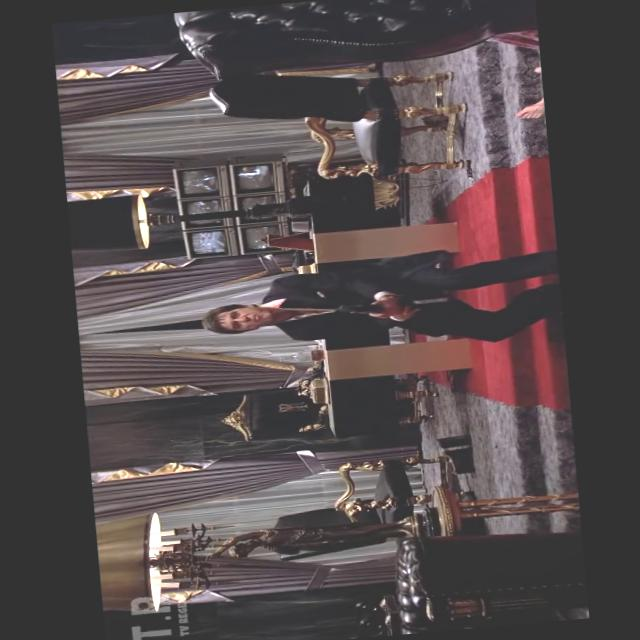long weapon: (322, 272, 466, 332)
